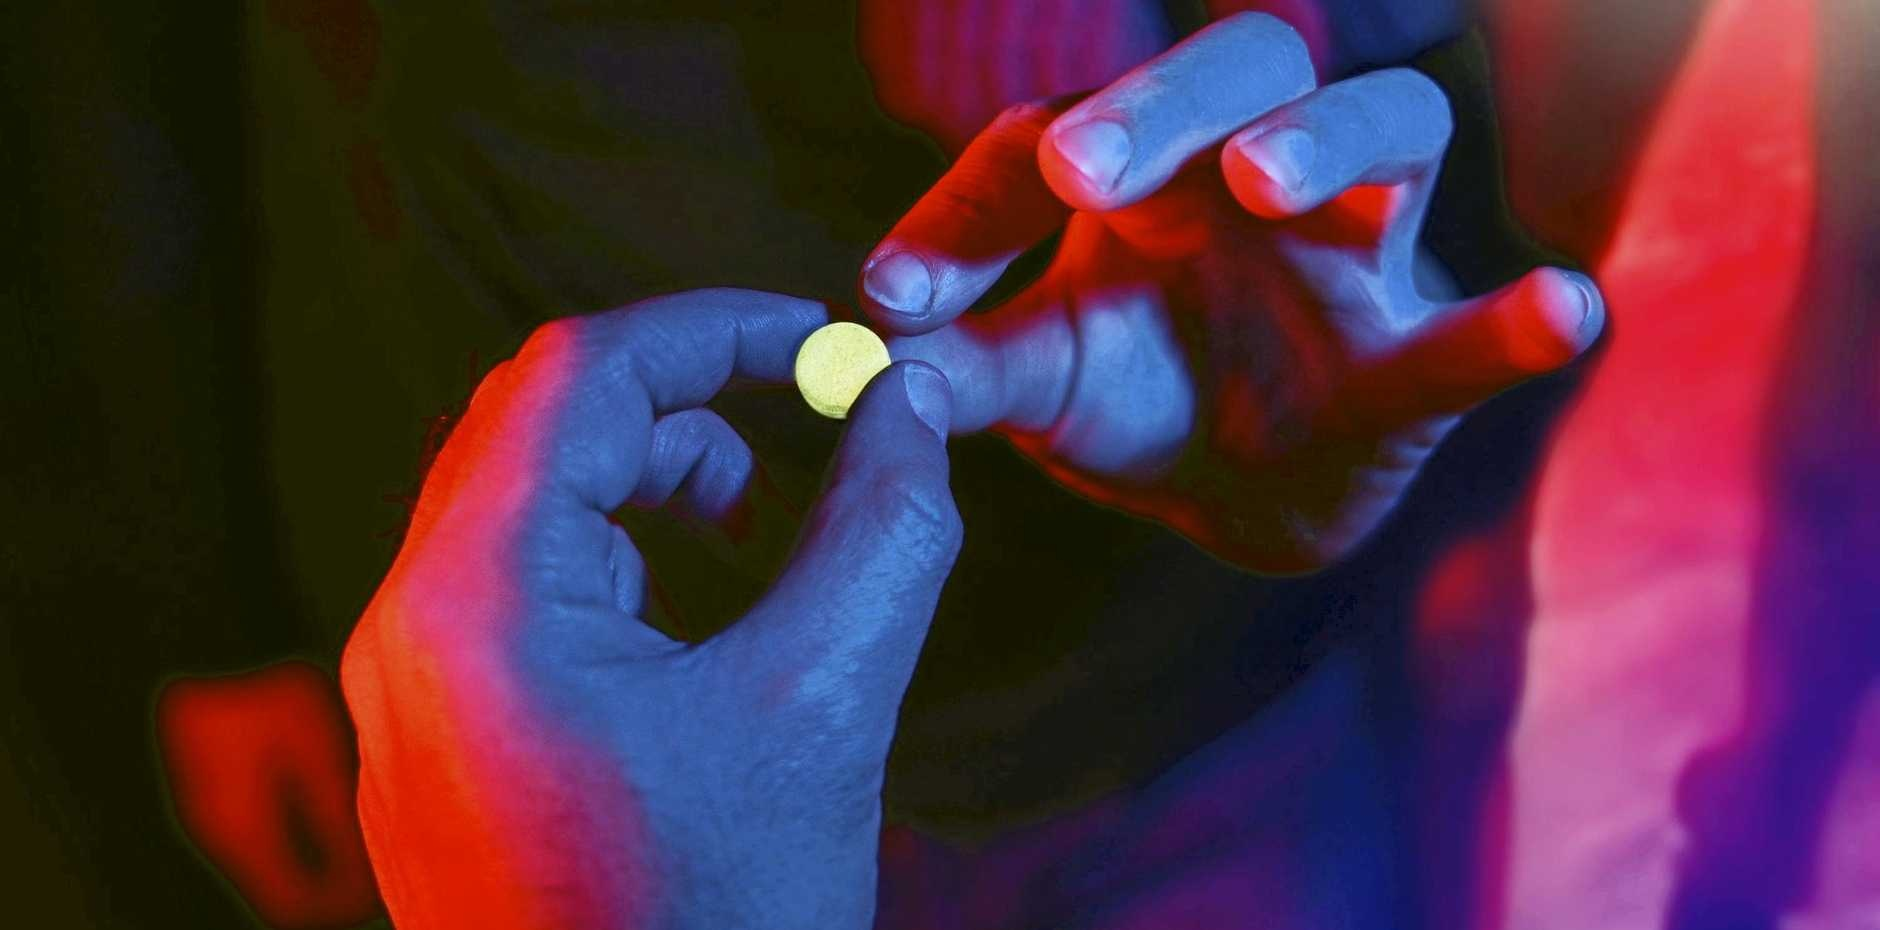pills: (791, 312, 894, 431)
